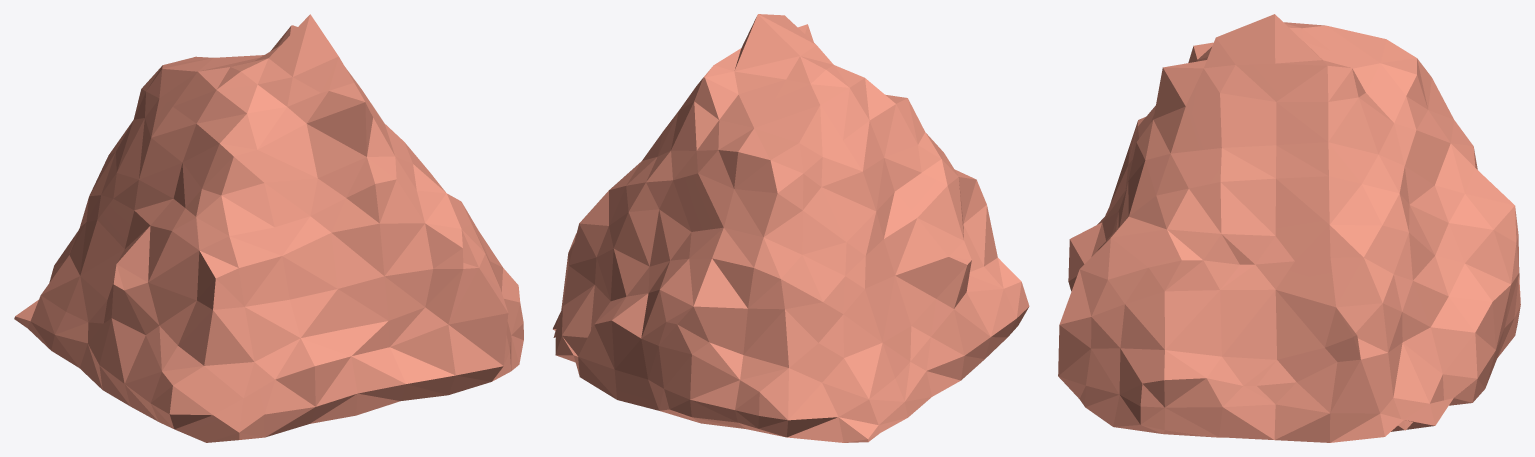
The model's file is Stone.obj.
3 renders of one model, left to right at view 1: azimuth 30°, elevation 25°; view 2: azimuth 150°, elevation 25°; view 3: azimuth 270°, elevation 25°, orthographic. The views are drawn at different scales.
Parts seen in each view (by area): view 1: 石.001; view 2: 石.001; view 3: 石.001.
Boxes of the visible parts, x1,y1,x2,y2 form: 石.001: (14,14,523,442); 石.001: (553,14,1029,442); 石.001: (1058,14,1520,442).
Size of the model in its own units: 245 by 210 by 249.
